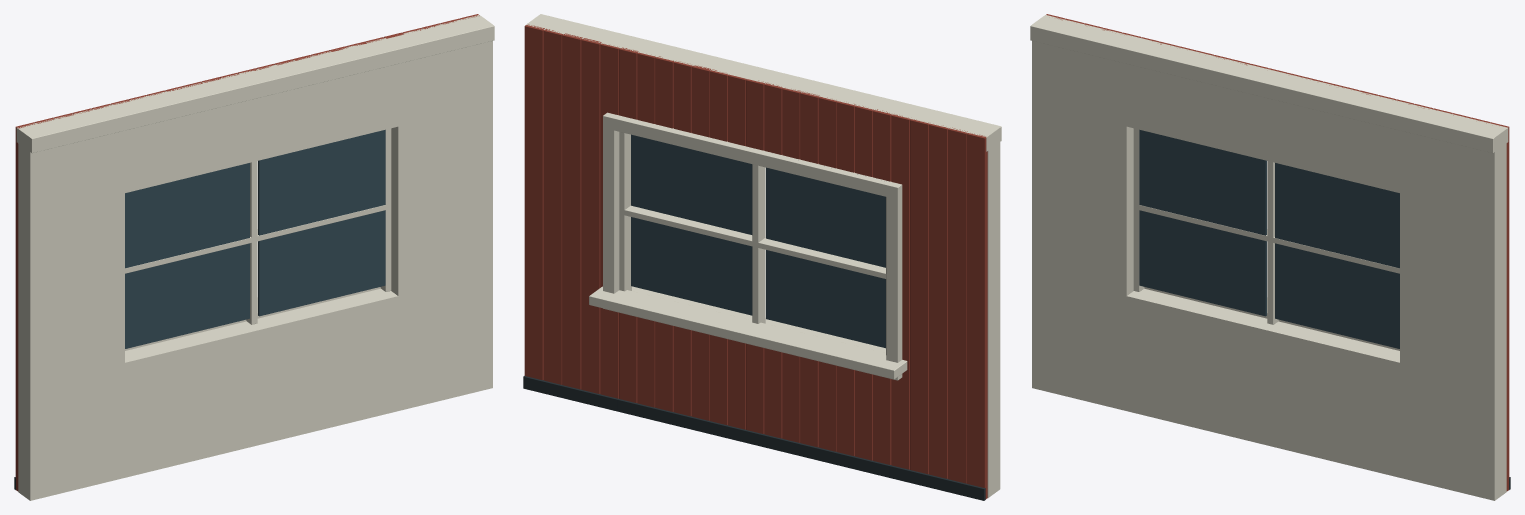
The model's file is workshop_window_4m.glb.
3 renders of one model, left to right at view 1: azimuth 30°, elevation 25°; view 2: azimuth 150°, elevation 25°; view 3: azimuth 330°, elevation 25°, orthographic.
Parts seen in each view (by area): view 1: Structure; view 2: Structure; view 3: Structure.
Part boxes in pixels (left/top/right/bottom): Structure: left=14, top=14, right=494, bottom=500; Structure: left=523, top=14, right=1001, bottom=500; Structure: left=1030, top=14, right=1510, bottom=500.
Size of the model in its own units: 4 by 3 by 0.445.
